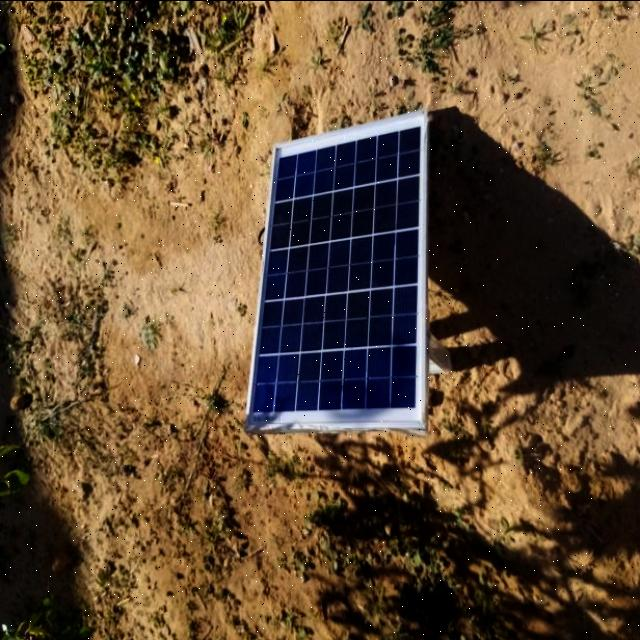Normal Solar Panel: (245, 108, 427, 428)
